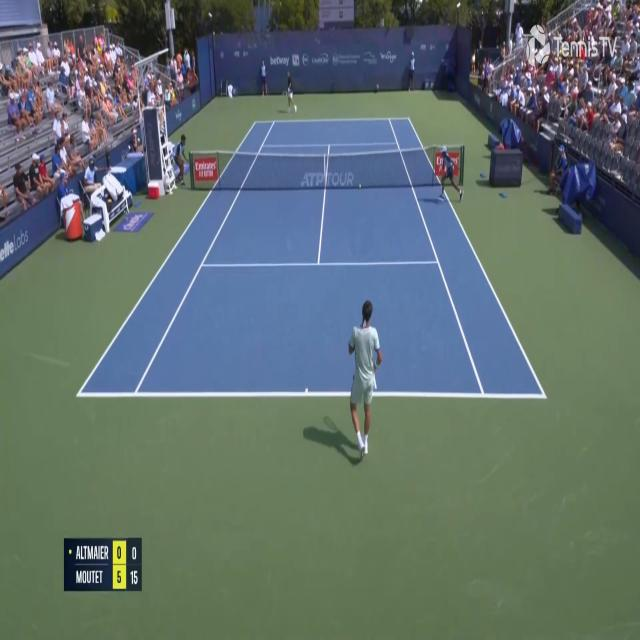tennis-player: (345, 295, 383, 461), (284, 68, 297, 113)
